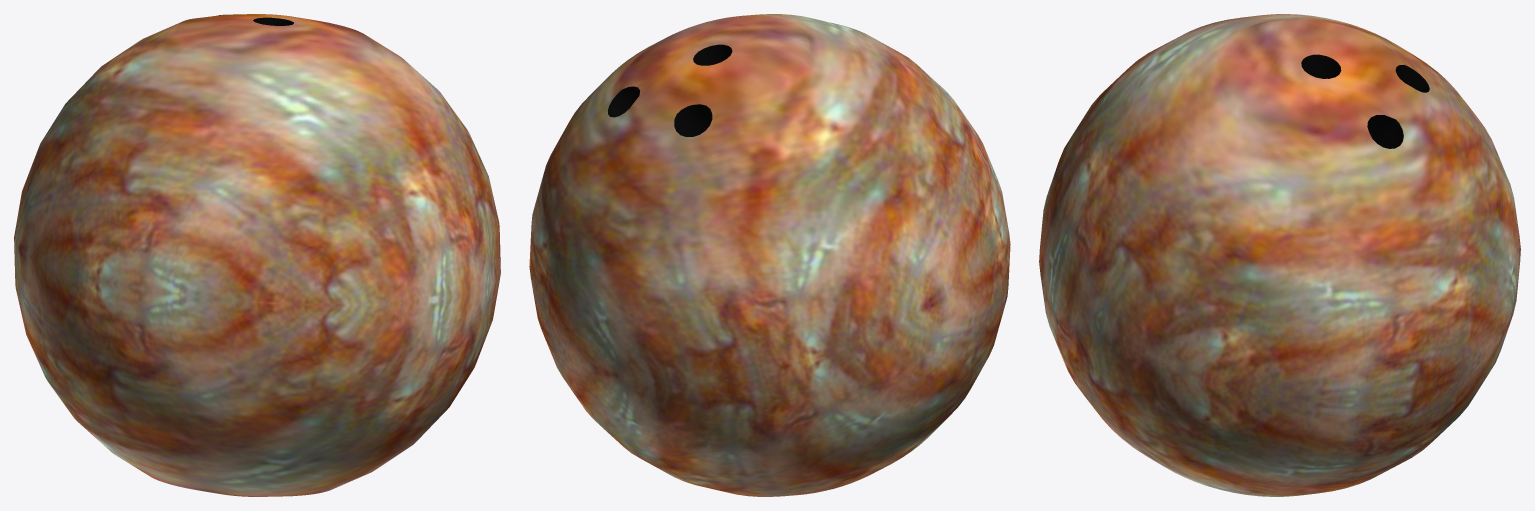
The model's file is BallT4.FBX.
3 views of the same model, side by side, from view 1: azimuth 30°, elevation 25°; view 2: azimuth 150°, elevation 25°; view 3: azimuth 270°, elevation 25° (orthographic).
Parts seen in each view (by area): view 1: Ball4; view 2: Ball4; view 3: Ball4.
Boxes of the visible parts, x1,y1,x2,y2 form: Ball4: (14,14,500,496); Ball4: (529,14,1010,496); Ball4: (1039,14,1520,496).
Size of the model in its own units: 180 by 180 by 179.
